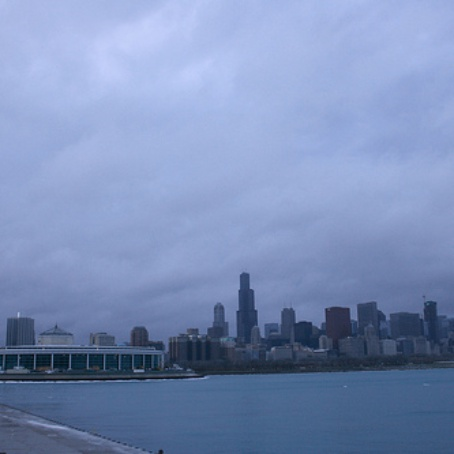building: (1, 339, 178, 380), (236, 269, 259, 349), (323, 300, 354, 343), (418, 297, 443, 342), (389, 310, 422, 343), (355, 299, 382, 336), (277, 304, 299, 345), (210, 300, 231, 342)
sea: (19, 367, 454, 454)
sky: (22, 1, 454, 306)
